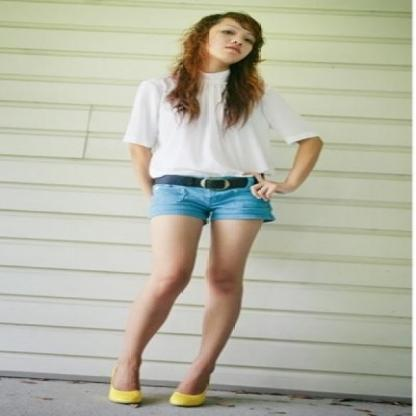shirt: (123, 63, 336, 185)
shoe: (108, 384, 200, 404)
shorts: (150, 175, 274, 221)
